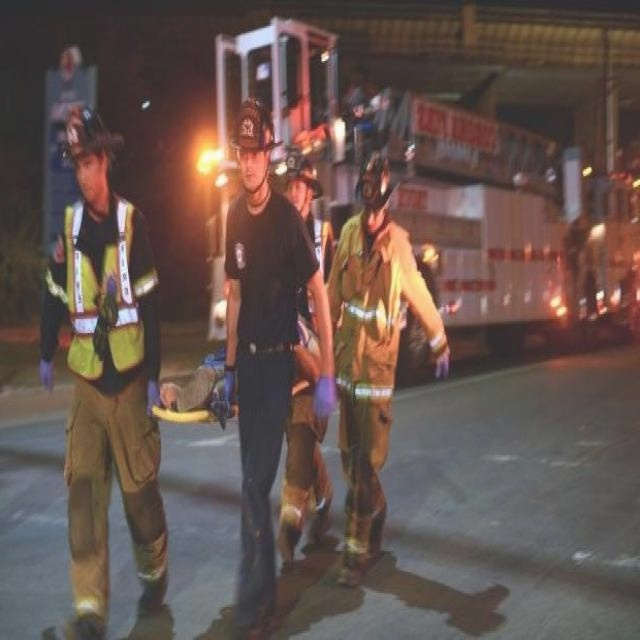Con_Chaleco: (60, 193, 140, 384)
Sin_Chaleco: (228, 193, 305, 355)
